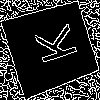K: (25, 22, 79, 69)
